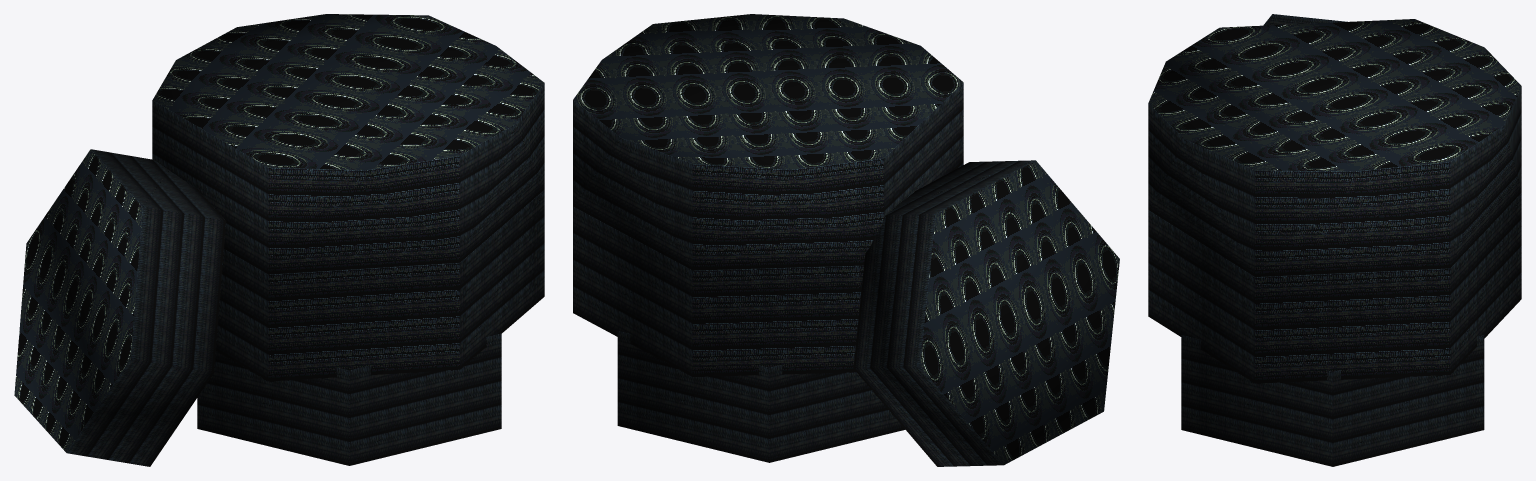
Rendered from 3353IMIG13_04.gltf.
3 renders of one model, left to right at view 1: azimuth 30°, elevation 25°; view 2: azimuth 150°, elevation 25°; view 3: azimuth 270°, elevation 25°, orthographic.
Parts seen in each view (by area): view 1: 3353IMIG13_04; view 2: 3353IMIG13_04; view 3: 3353IMIG13_04.
Boxes of the visible parts, <box> form: 3353IMIG13_04: <box>14,14,544,466</box>; 3353IMIG13_04: <box>573,14,1119,466</box>; 3353IMIG13_04: <box>1148,14,1521,466</box>.
Bounding box in the file's own units: 0.9075 × 0.5564 × 0.6313.
Materials: 2 (2 with a texture image).
